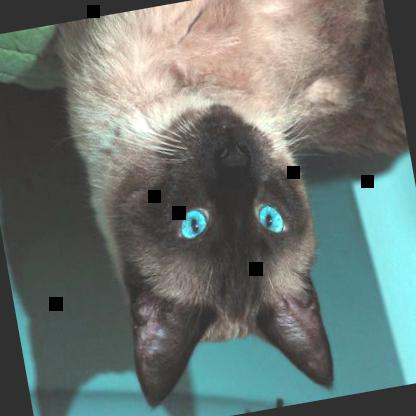cat: (52, 0, 415, 415)
